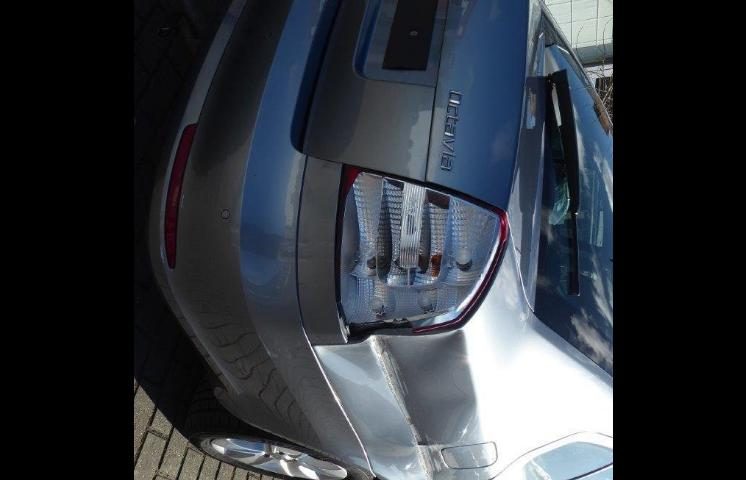Cracked: (335, 171, 501, 339)
Dent: (312, 330, 475, 448)
Scratch: (368, 333, 444, 480), (253, 331, 276, 361), (156, 240, 166, 264), (178, 191, 186, 210), (277, 348, 290, 359)
